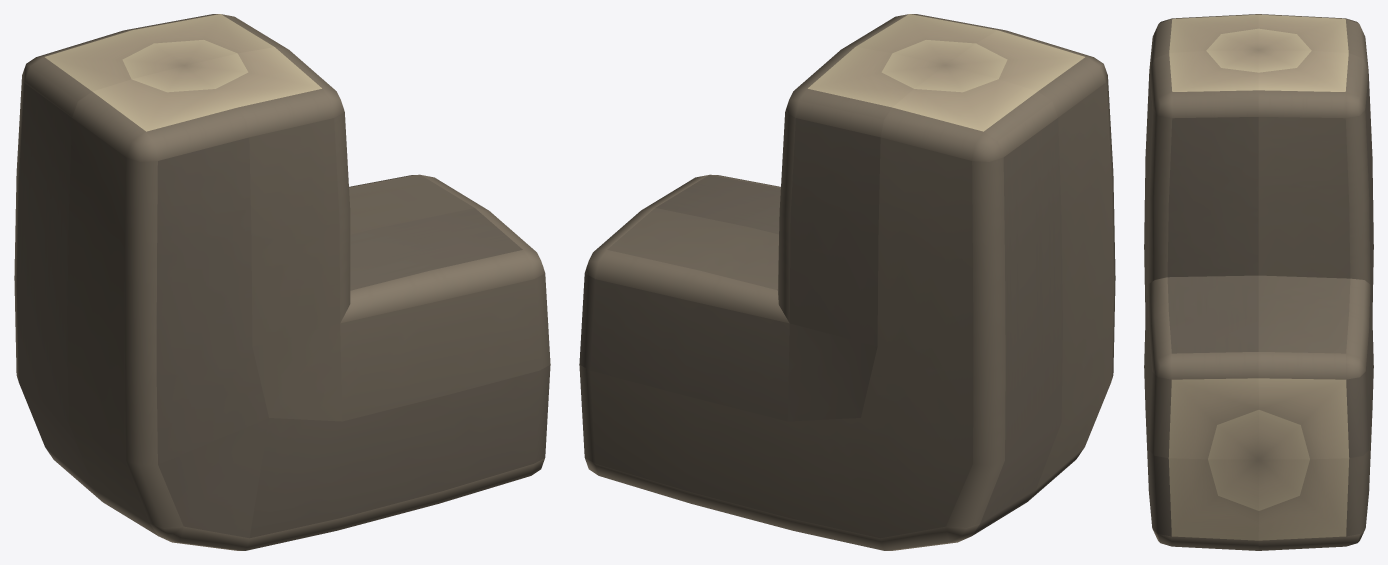
The model's file is DryWood_Branch_L.fbx.
3 renders of one model, left to right at view 1: azimuth 30°, elevation 25°; view 2: azimuth 150°, elevation 25°; view 3: azimuth 270°, elevation 25°, orthographic. The views are drawn at different scales.
Parts seen in each view (by area): view 1: DryWood_Branch_L_LOD0; view 2: DryWood_Branch_L_LOD0; view 3: DryWood_Branch_L_LOD0.
Part boxes in pixels (x1,y1,x2,y2): DryWood_Branch_L_LOD0: (14,14,550,550); DryWood_Branch_L_LOD0: (579,14,1115,550); DryWood_Branch_L_LOD0: (1144,14,1373,550).
Size of what is drawn, in the model's own units: 1.08 by 1.08 by 0.5858.
